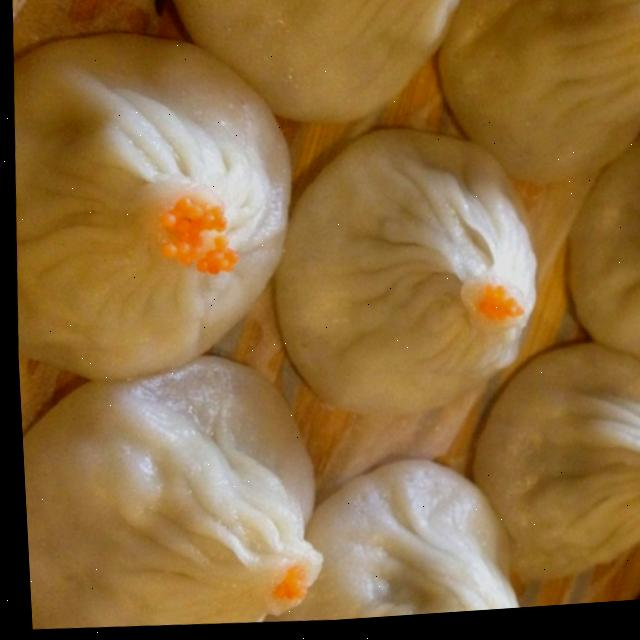带馅早点: (5, 0, 640, 640)
